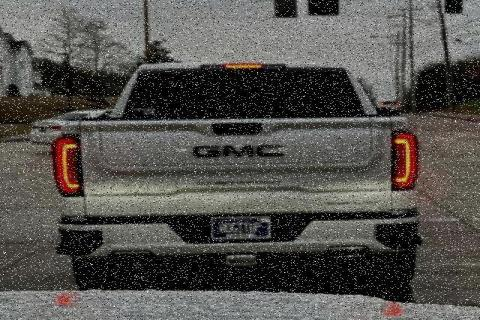LicensePlate: (208, 214, 271, 239)
